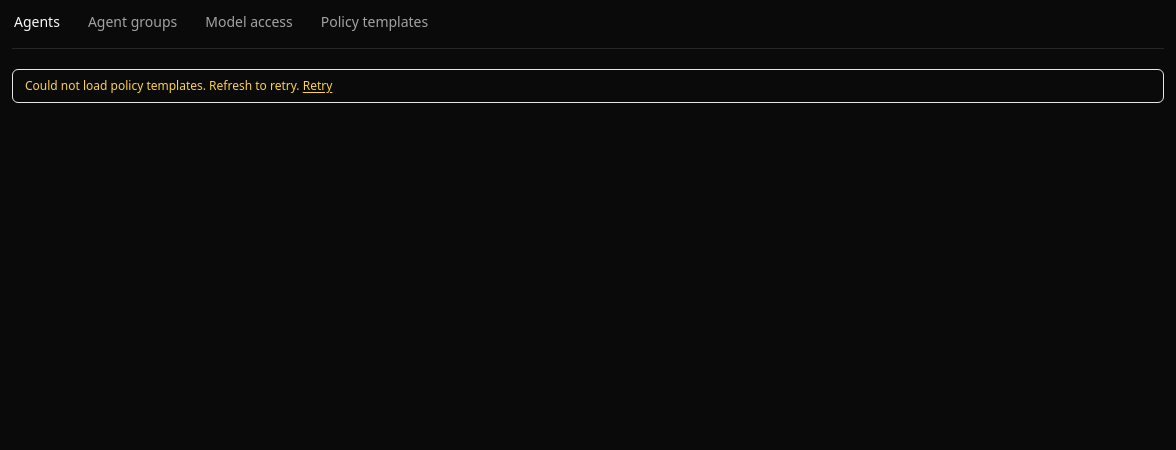
Test: released F09 agent group and template workflow › keeps genuine enabled policy-template inventory failures retryable
The image size is (1176, 450).
Expected: the text "Could not load policy templates. Refresh to retry." is shown, [25, 77, 300, 94]
Click the button "Retry" at (318, 86), box [303, 78, 332, 94]
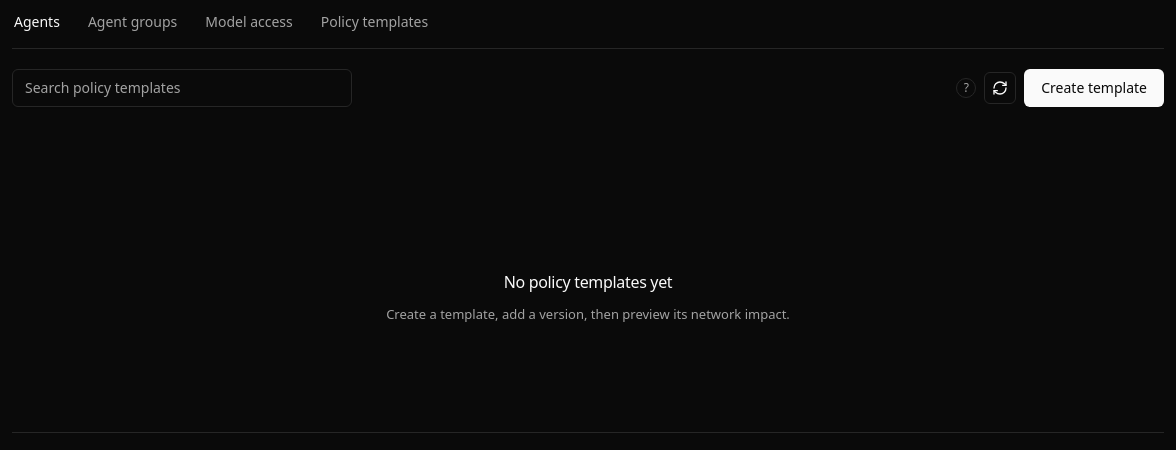
Expected: the button "Create template" is shown, [1024, 69, 1164, 107]
